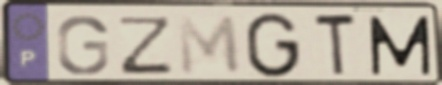G: (244, 11, 302, 81), (54, 14, 111, 77)
M: (366, 14, 434, 78), (175, 14, 244, 77)
T: (312, 11, 359, 80)
Z: (117, 15, 175, 76)
